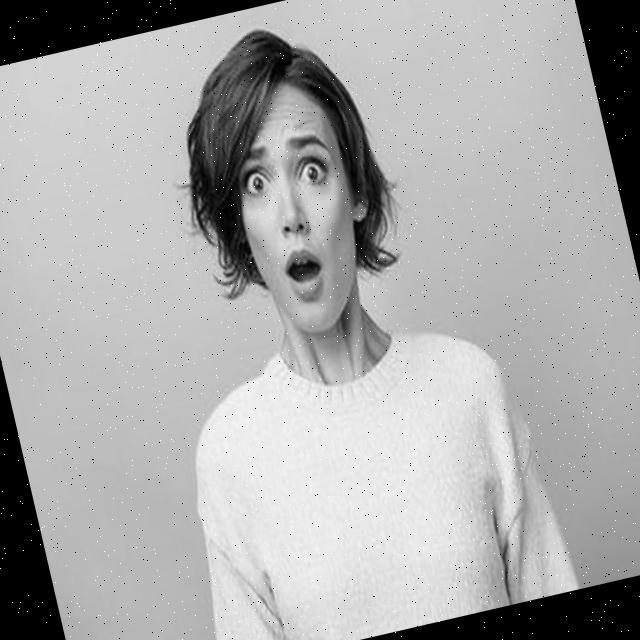Fear: (215, 75, 378, 342)
